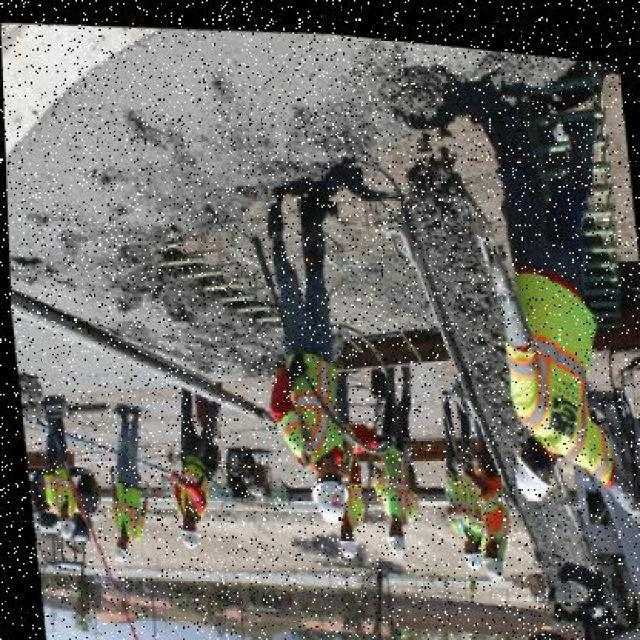helmet: (503, 425, 559, 500), (300, 466, 349, 520), (477, 537, 506, 581), (456, 532, 483, 564), (331, 526, 358, 558), (173, 518, 200, 550), (49, 509, 76, 541), (380, 520, 407, 548), (105, 534, 129, 565)
vest: (490, 246, 614, 451), (273, 329, 361, 461), (366, 422, 418, 517), (163, 439, 213, 520), (437, 457, 477, 533), (36, 449, 78, 520), (108, 472, 147, 548), (333, 468, 359, 524)
